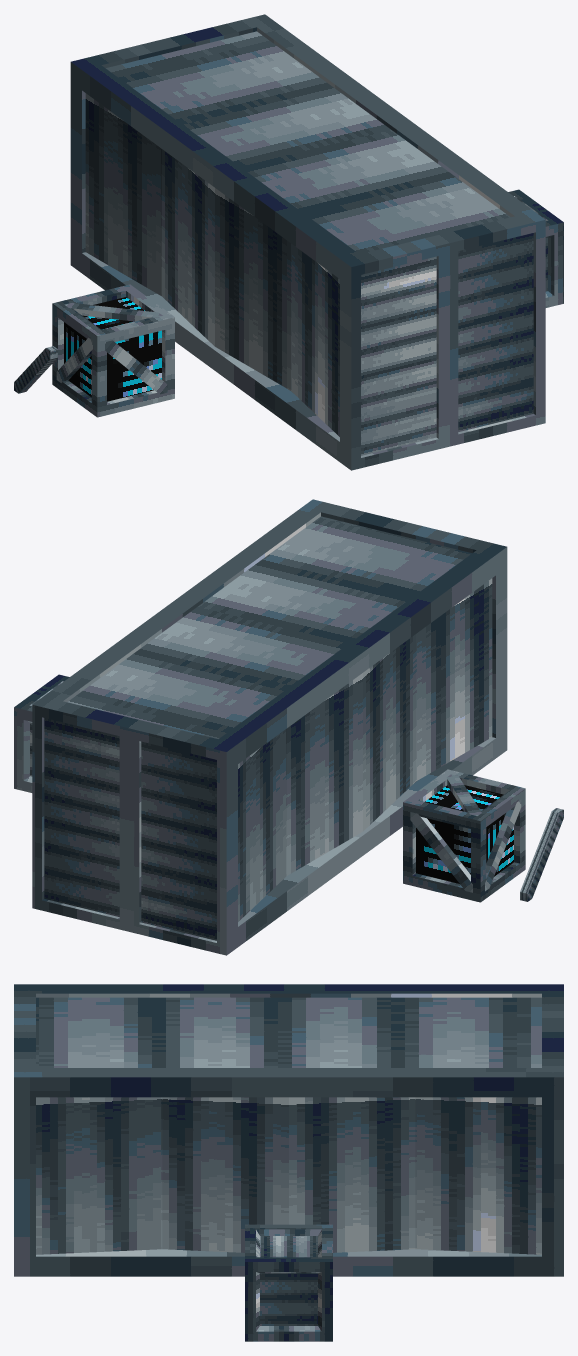
Rendered from Crates.fbx.
3 renders of one model, top to bottom at view 1: azimuth 30°, elevation 25°; view 2: azimuth 150°, elevation 25°; view 3: azimuth 270°, elevation 25°, orthographic. The views are drawn at different scales.
Visible parts, largest first — view 1: ShippingCrate, WoodCrate, MetalBox, WoodCrateSupport; view 2: ShippingCrate, WoodCrate, MetalBox, WoodCrateSupport; view 3: ShippingCrate, MetalBox.
Boxes of the visible parts, x1,y1,x2,y2 form: ShippingCrate: (70, 14, 545, 470); WoodCrate: (52, 284, 174, 417); MetalBox: (508, 189, 563, 307); WoodCrateSupport: (14, 346, 57, 393); ShippingCrate: (32, 499, 507, 955); WoodCrate: (403, 769, 525, 902); MetalBox: (14, 674, 69, 792); WoodCrateSupport: (520, 808, 563, 901); ShippingCrate: (14, 984, 563, 1276); MetalBox: (245, 1224, 332, 1341).
Bounding box in the file's own units: 1310 × 1250 × 500.
Materials: 2 (2 with a texture image).
